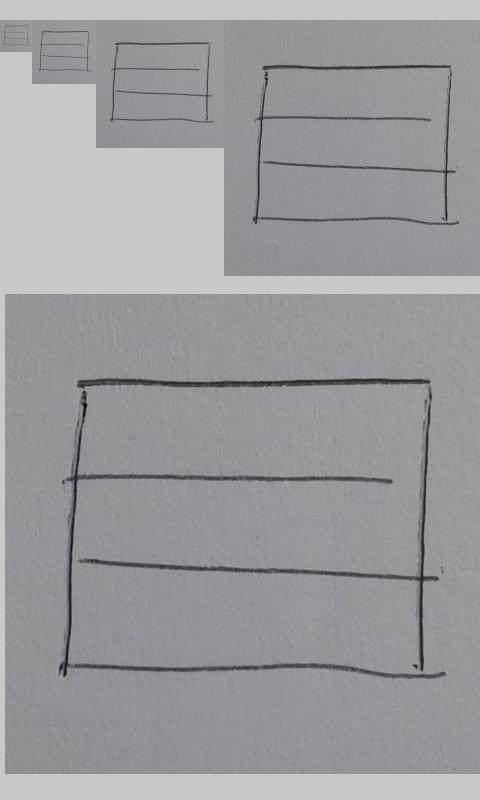list_view: (61, 370, 436, 683), (254, 62, 454, 227), (110, 40, 211, 124), (39, 30, 90, 72), (3, 24, 29, 47)
